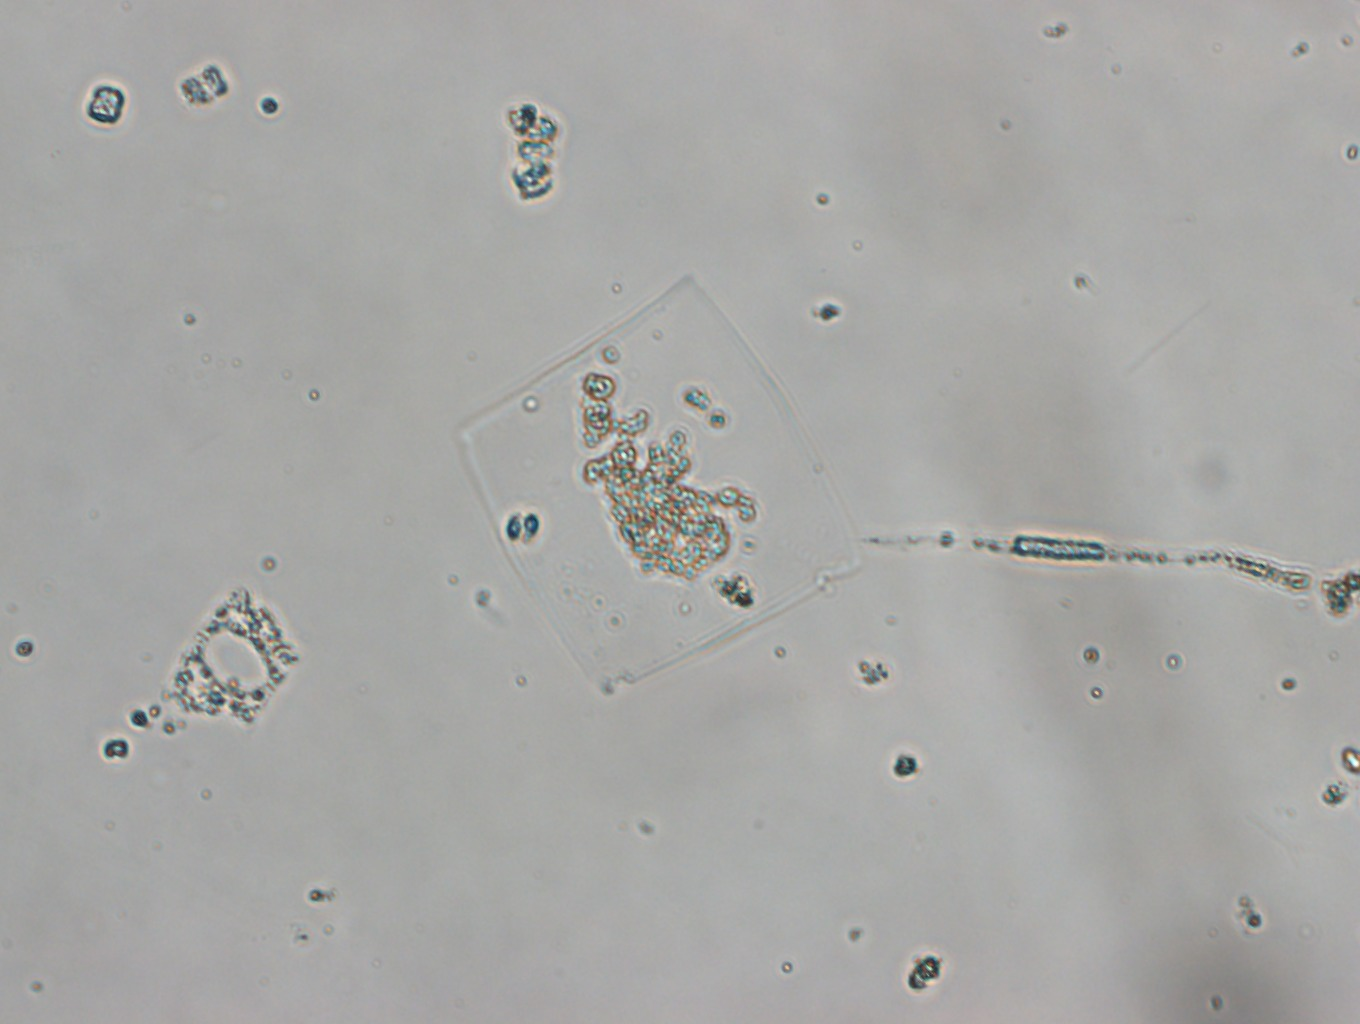eucampia: (168, 586, 303, 724)
helicotheca: (454, 274, 863, 687)
